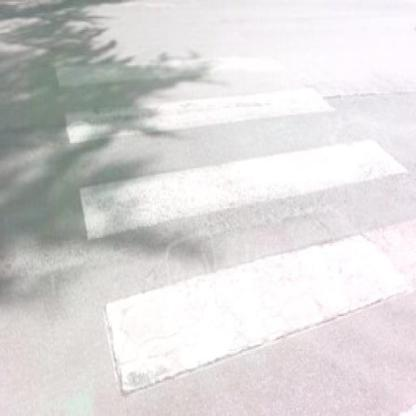crosswalk: (42, 84, 415, 250)
